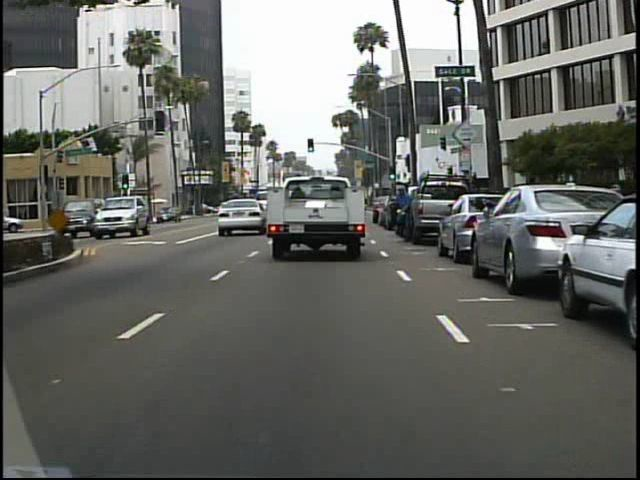person: (389, 183, 410, 235)
